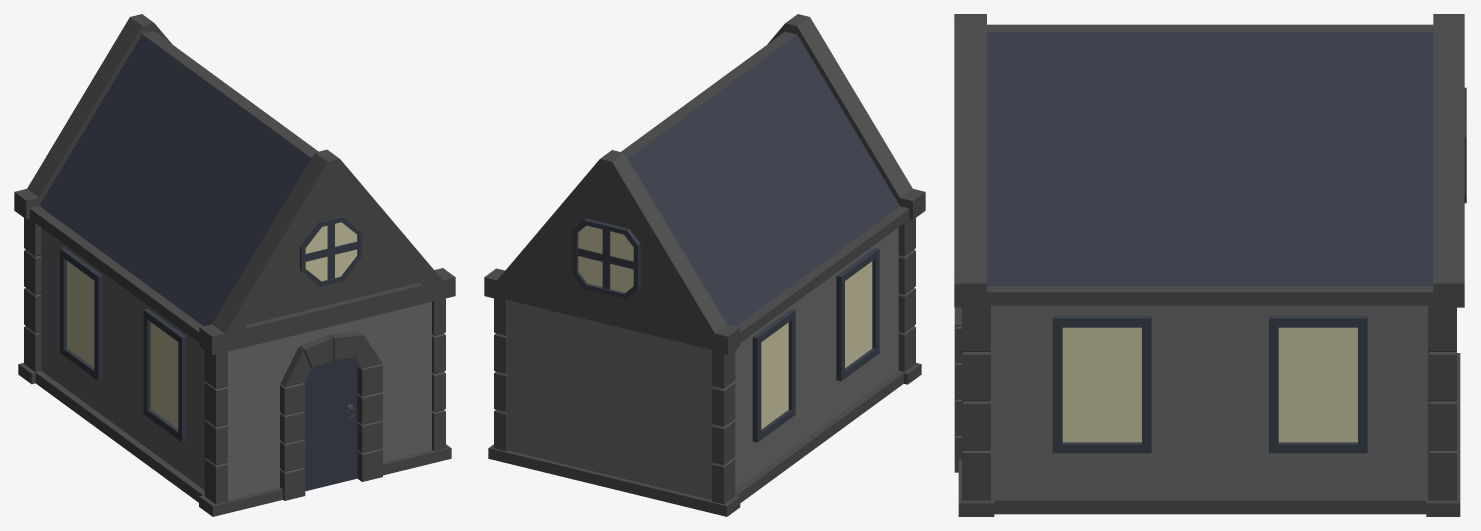
File: House_1_1.fbx
3 renders of one model, left to right at view 1: azimuth 30°, elevation 25°; view 2: azimuth 150°, elevation 25°; view 3: azimuth 270°, elevation 25°, orthographic. The views are drawn at different scales.
Parts seen in each view (by area): view 1: House_1_1; view 2: House_1_1; view 3: House_1_1.
Part boxes in pixels (x1,y1,x2,y2): House_1_1: (14, 14, 455, 516); House_1_1: (484, 14, 925, 516); House_1_1: (954, 14, 1466, 516).
Bounding box in the file's own units: 159 × 205 × 225.
